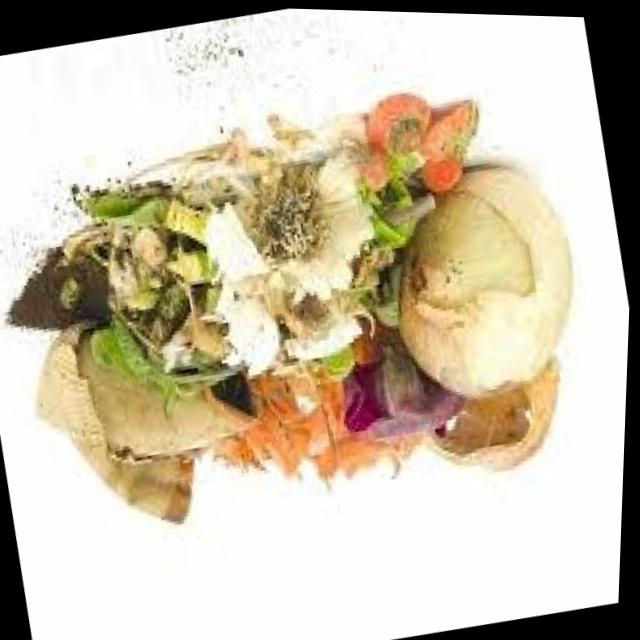Wet: (0, 0, 640, 591), (351, 119, 615, 431)
